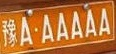A: (20, 17, 33, 46)
